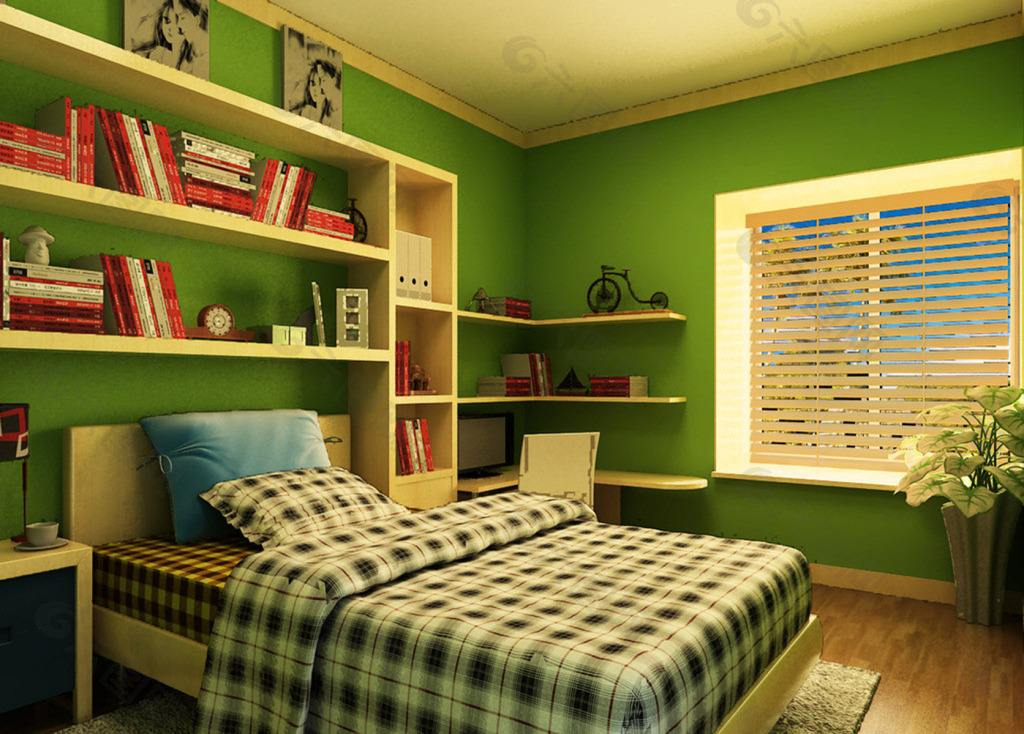床: (92, 499, 850, 734)
枕头: (132, 402, 417, 560)
